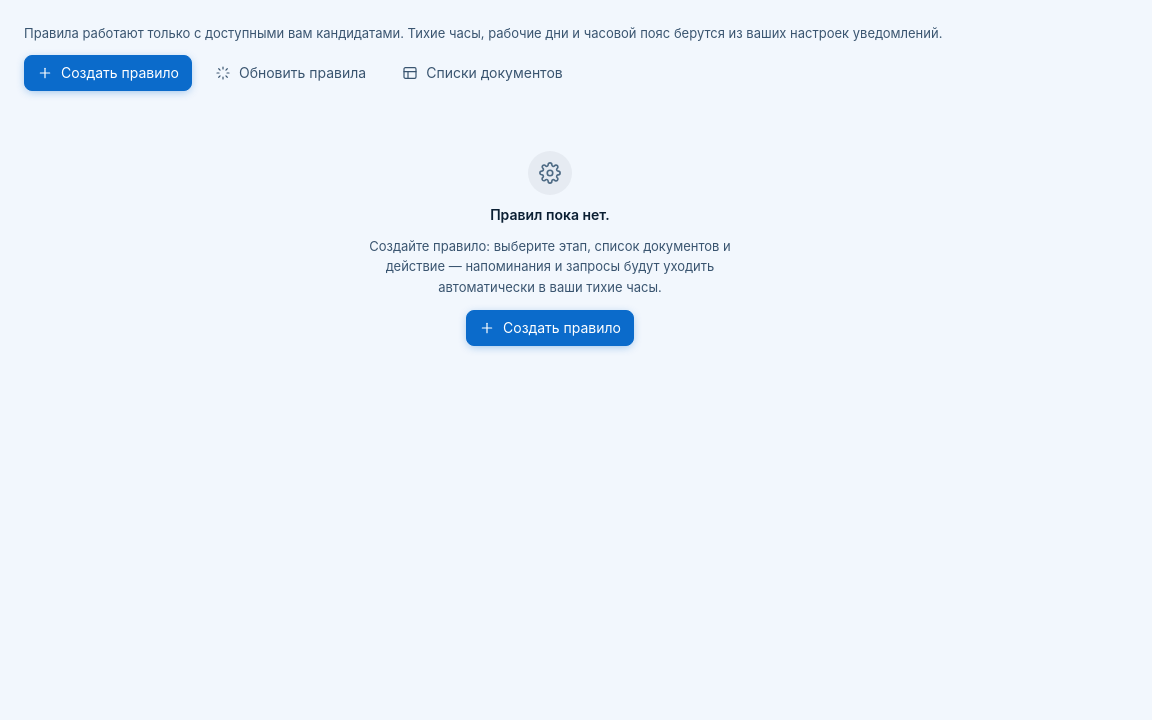
Scenario: Мои правила › explains an empty published-lists state and offers a way forward
Click the 1st button "Создать правило" at (108, 73), box left=24, top=55, right=192, bottom=91
(page scrolled)
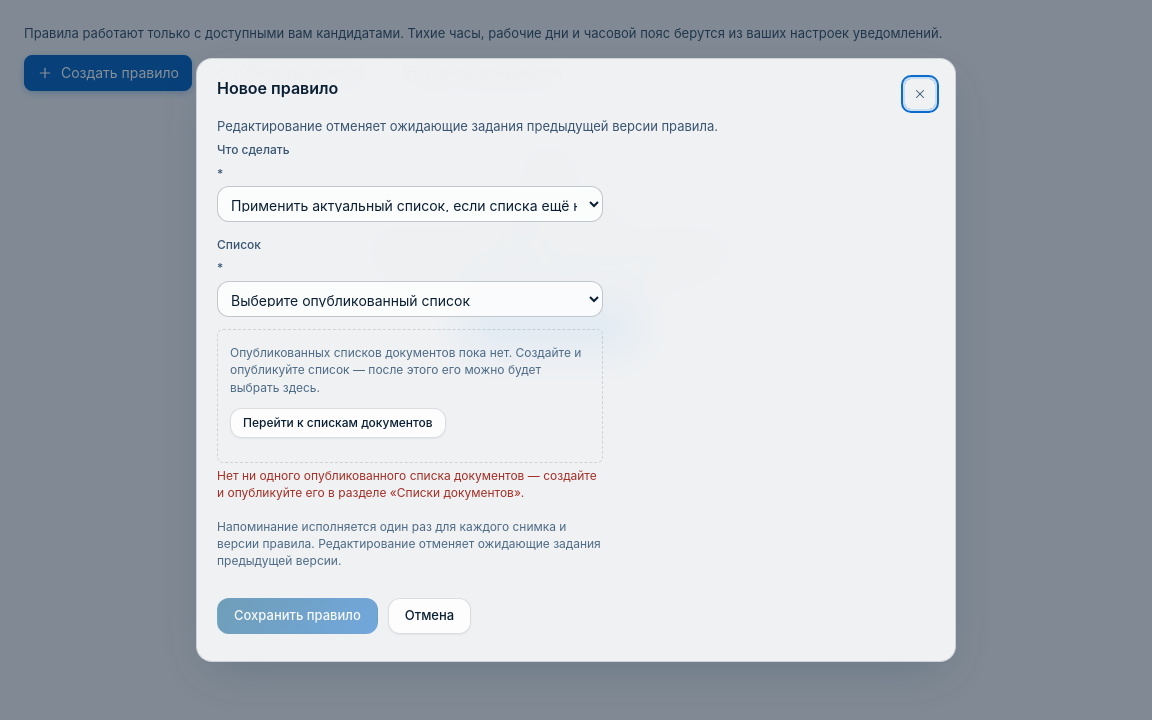
expect the text "Нет ни одного опубликованного списка документов" is shown: met, box left=217, top=468, right=597, bottom=500
expect the text "Опубликованных списков документов пока нет" is shown: met, box left=230, top=345, right=581, bottom=394
expect the button "Перейти к спискам документов" is shown: met, box left=230, top=408, right=446, bottom=438
